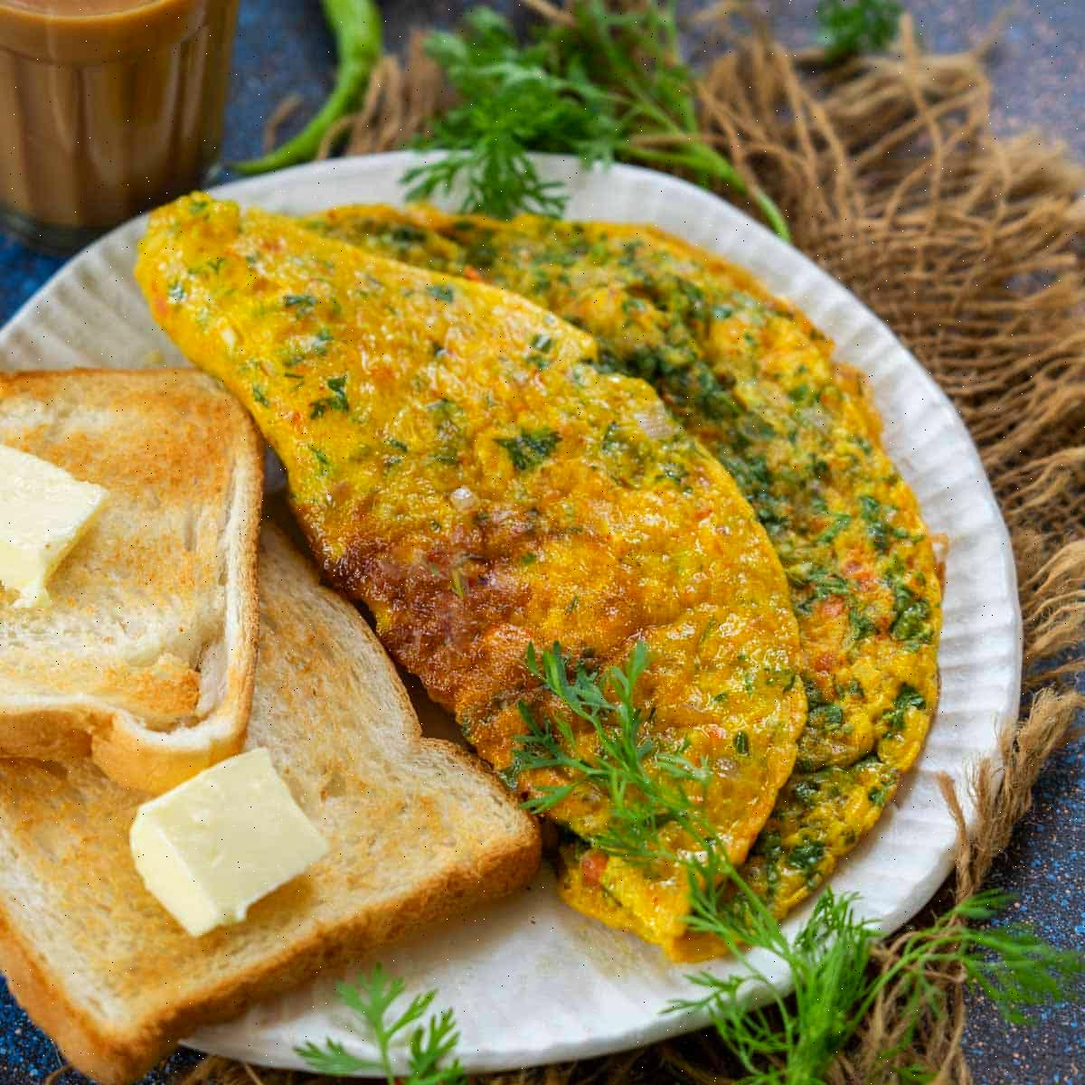omelette: (317, 216, 947, 752)
